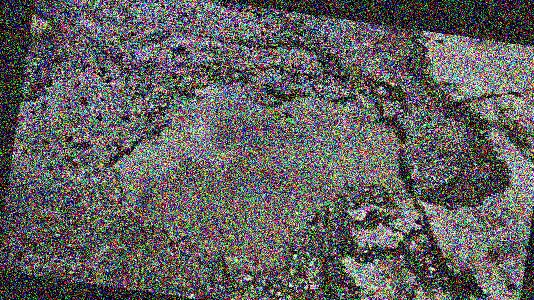pothole: (91, 38, 432, 294)
